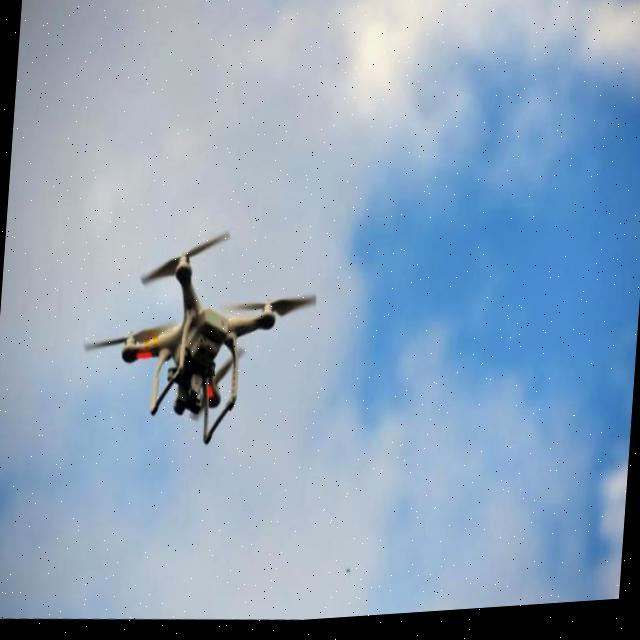drone: (78, 218, 326, 442)
